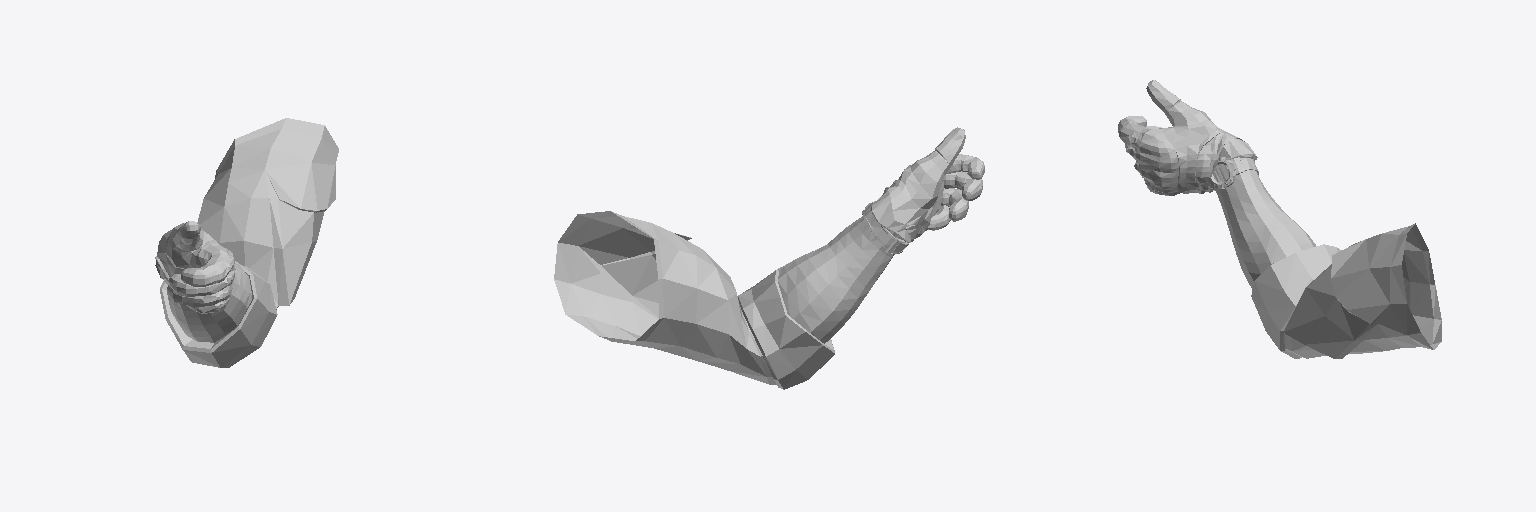
The model's file is BULLETIN_HAND.obj.
3 renders of one model, left to right at view 1: azimuth 30°, elevation 25°; view 2: azimuth 150°, elevation 25°; view 3: azimuth 270°, elevation 25°, orthographic.
Visible parts, largest first — view 1: BF3; view 2: BF3; view 3: BF3.
Boxes of the visible parts, x1,y1,x2,y2 form: BF3: [155, 118, 338, 367]; BF3: [554, 127, 984, 389]; BF3: [1118, 80, 1441, 358].
Bounding box in the file's own units: 17.83 × 13.07 × 17.05.